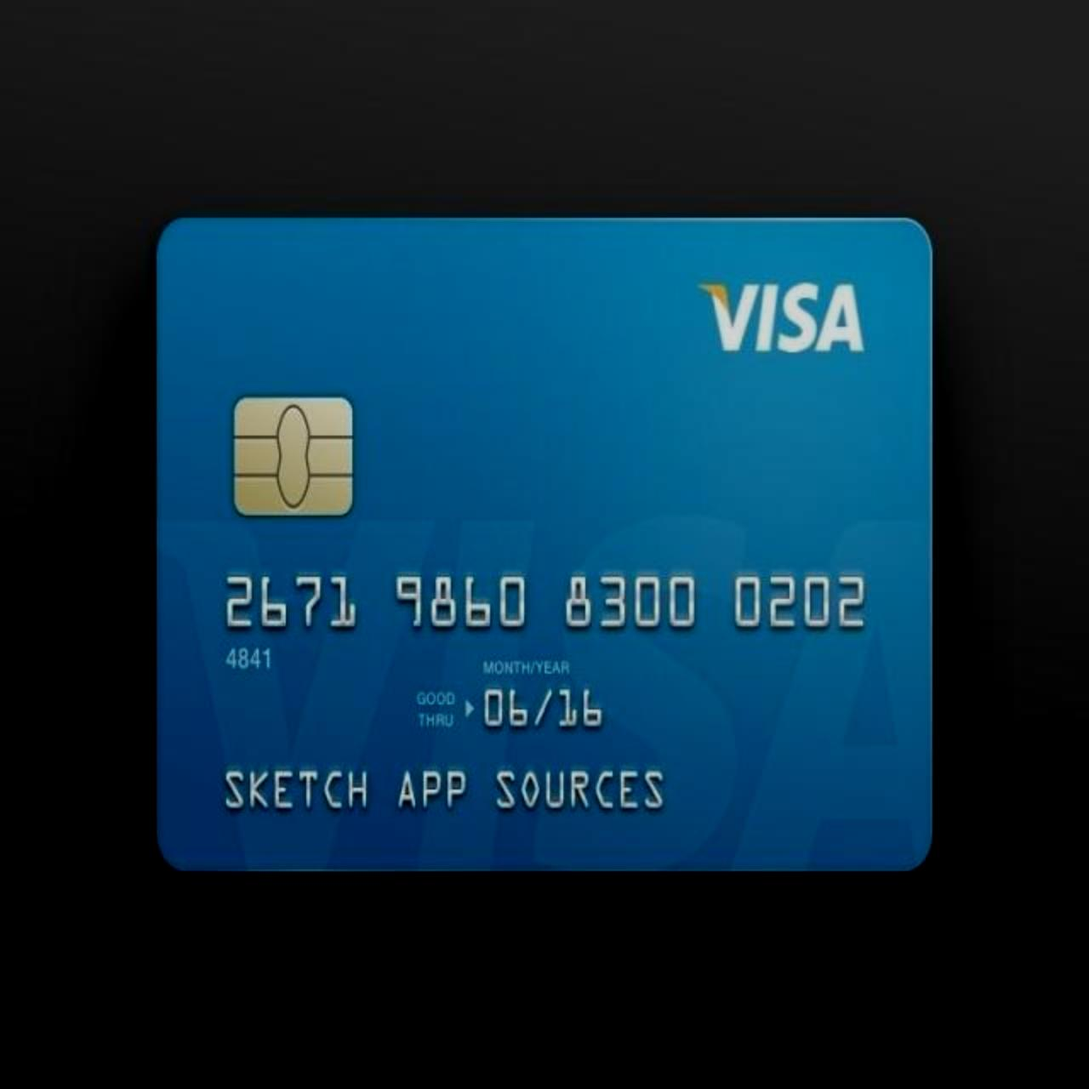credit_card: (153, 214, 939, 881)
